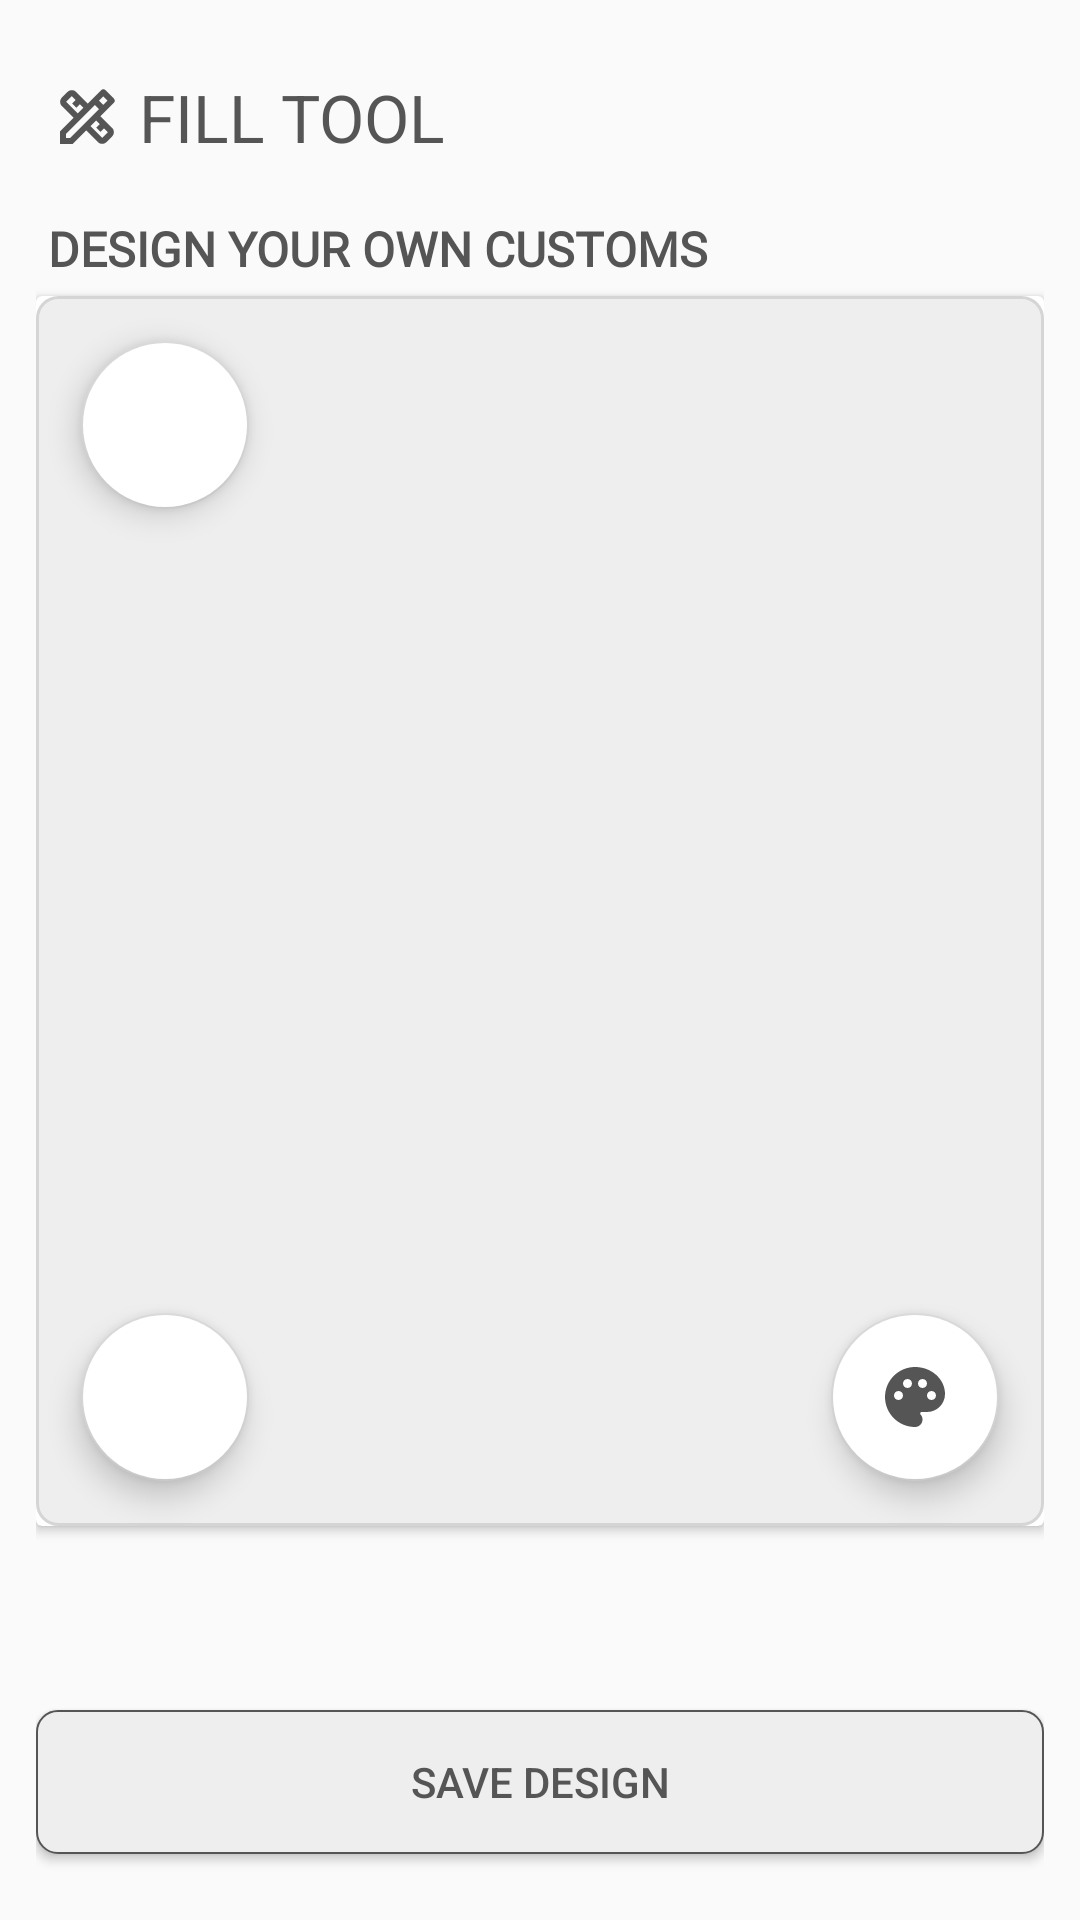

Icons on this 1080w x 1920h Android screen, each with the point to tap as point (x, y):
palette: point (915, 1397)
